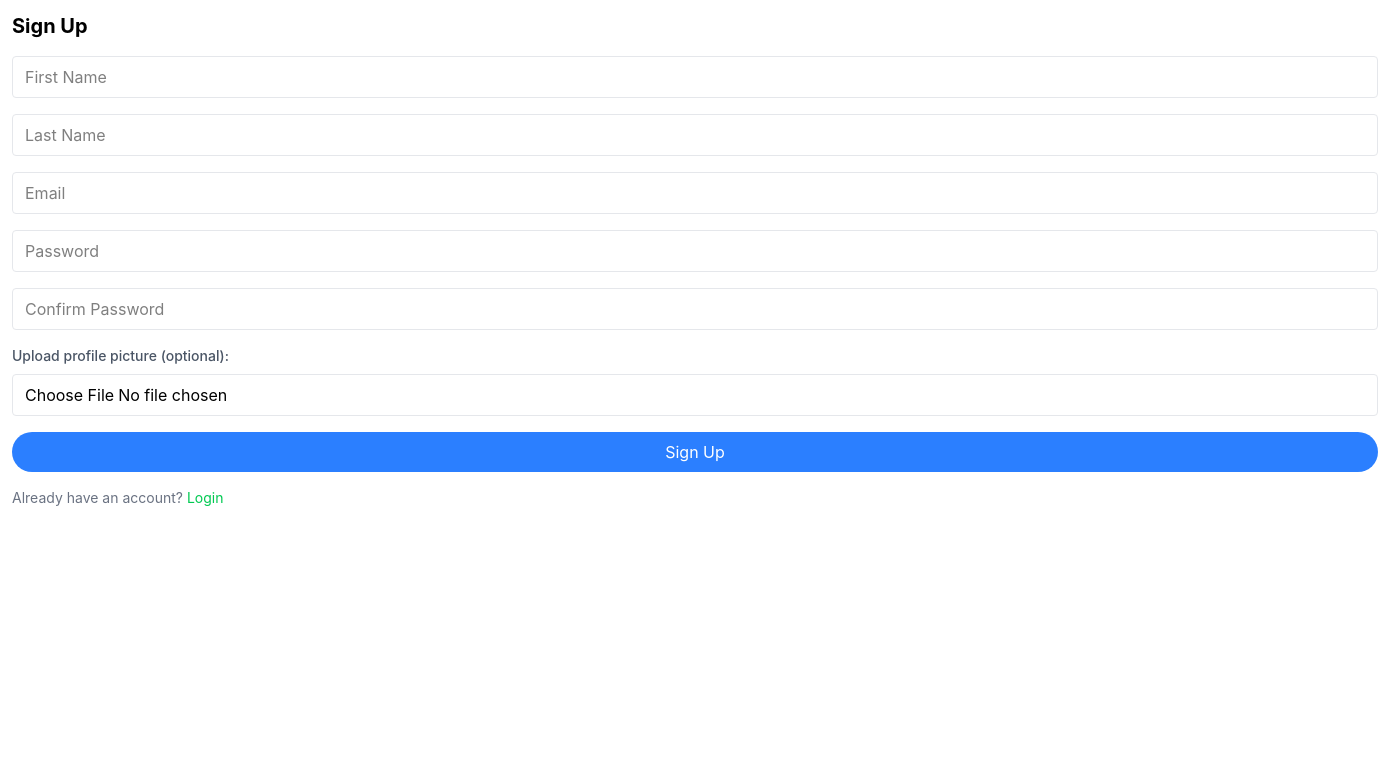
Test: SignupForm › shows an error and does not sign up when passwords do not match
The width and height of the screenshot is (1390, 780).
Step 1. Type "Jane" into the field with placeholder "First Name" → {"x": 695, "y": 77}, box [12, 56, 1378, 98]
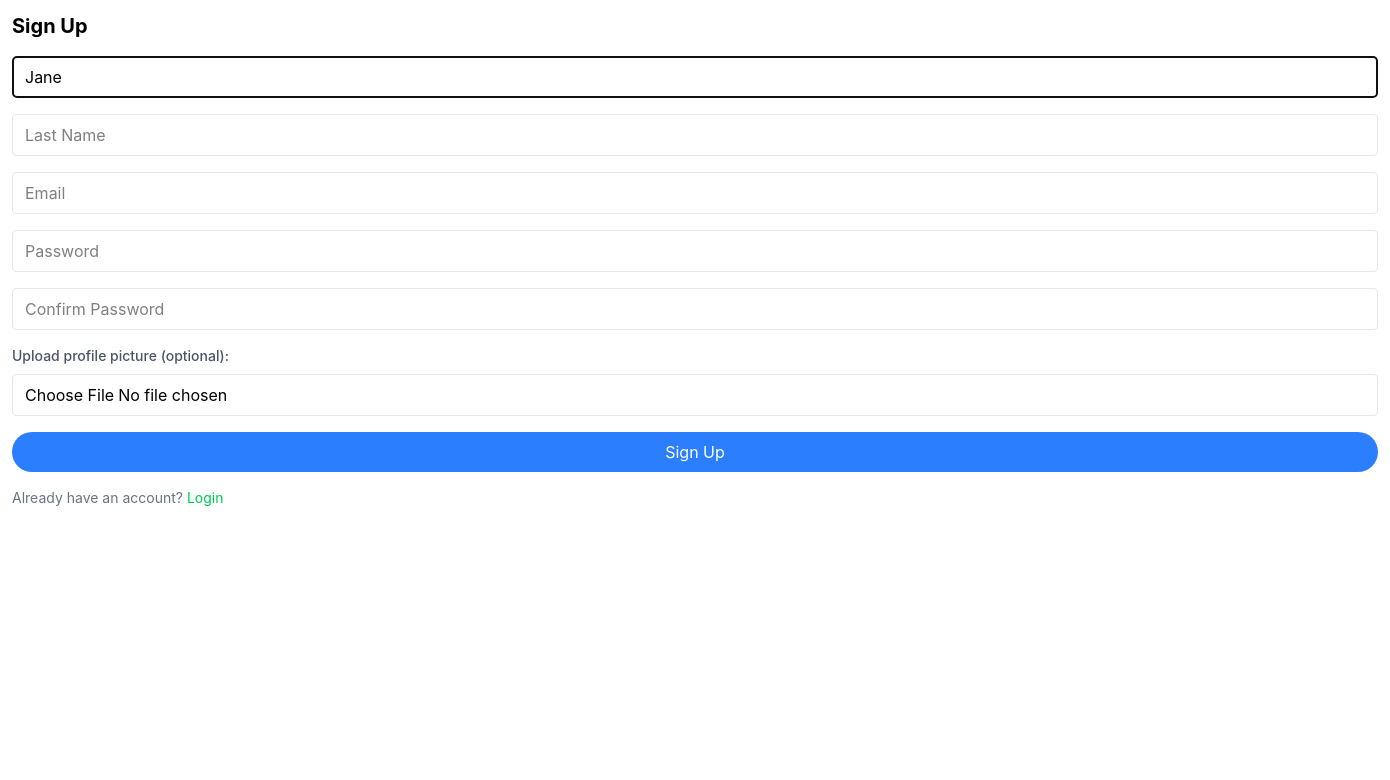
Step 2. Type "Doe" into the field with placeholder "Last Name" → {"x": 695, "y": 135}, box [12, 114, 1378, 156]
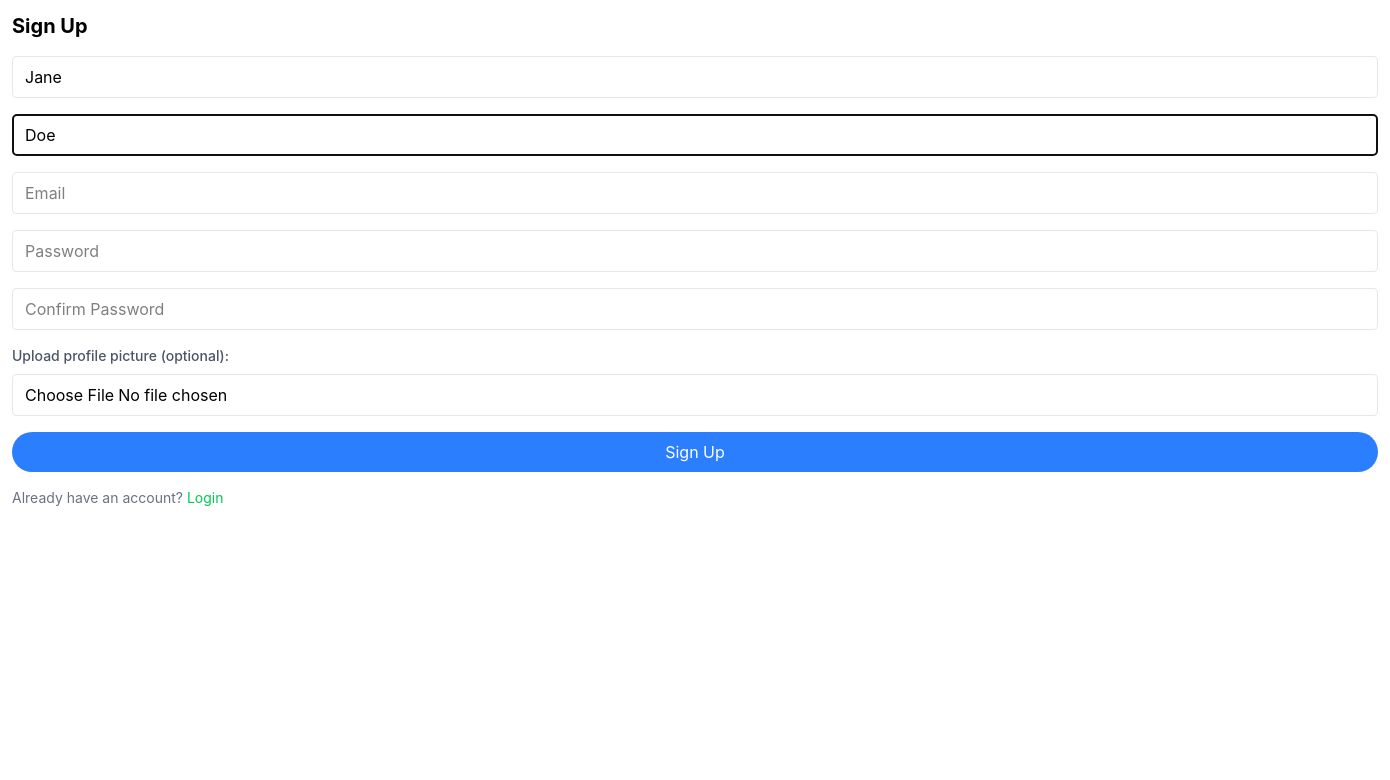
Step 3. Type "jane@example.com" into the field with placeholder "Email" → {"x": 695, "y": 193}, box [12, 172, 1378, 214]
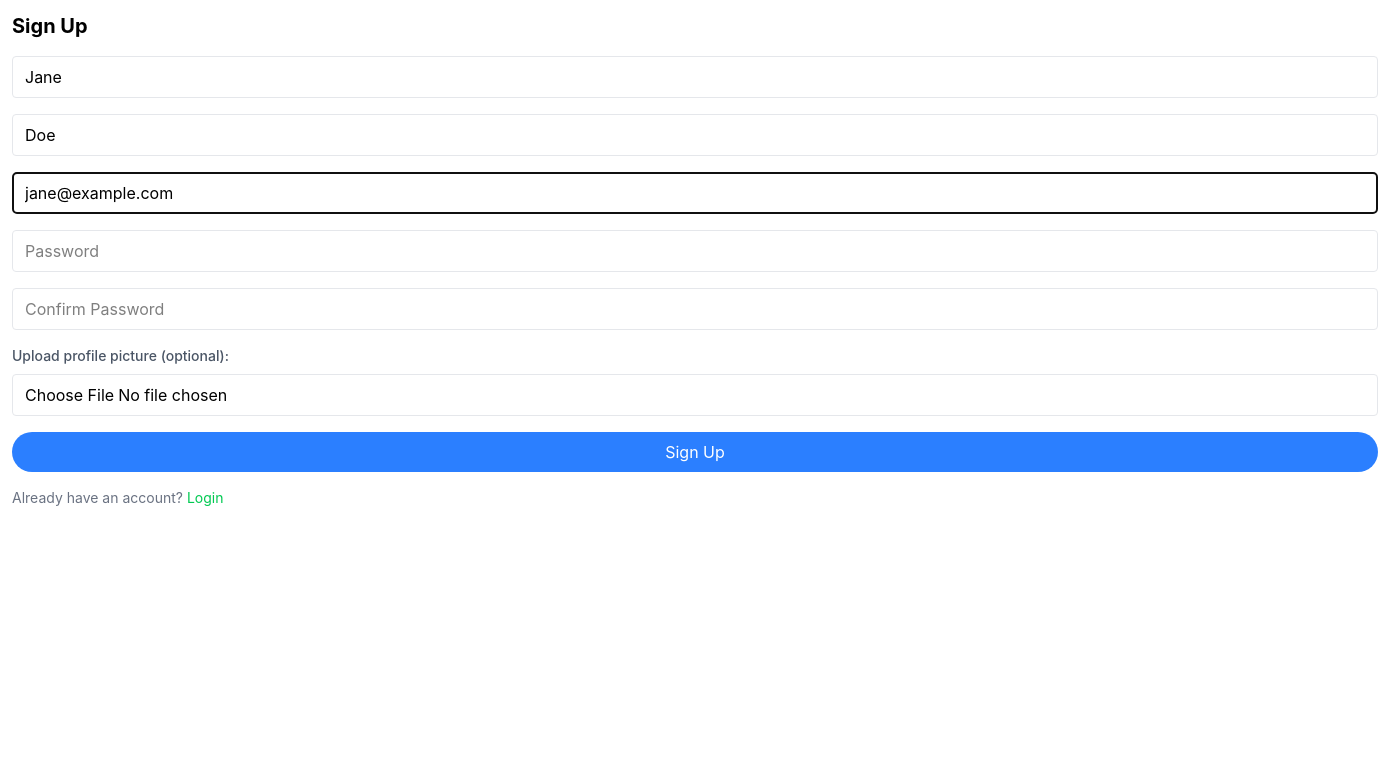
Step 4. Type "secret123" into the password field with placeholder "Password" → {"x": 695, "y": 251}, box [12, 230, 1378, 272]
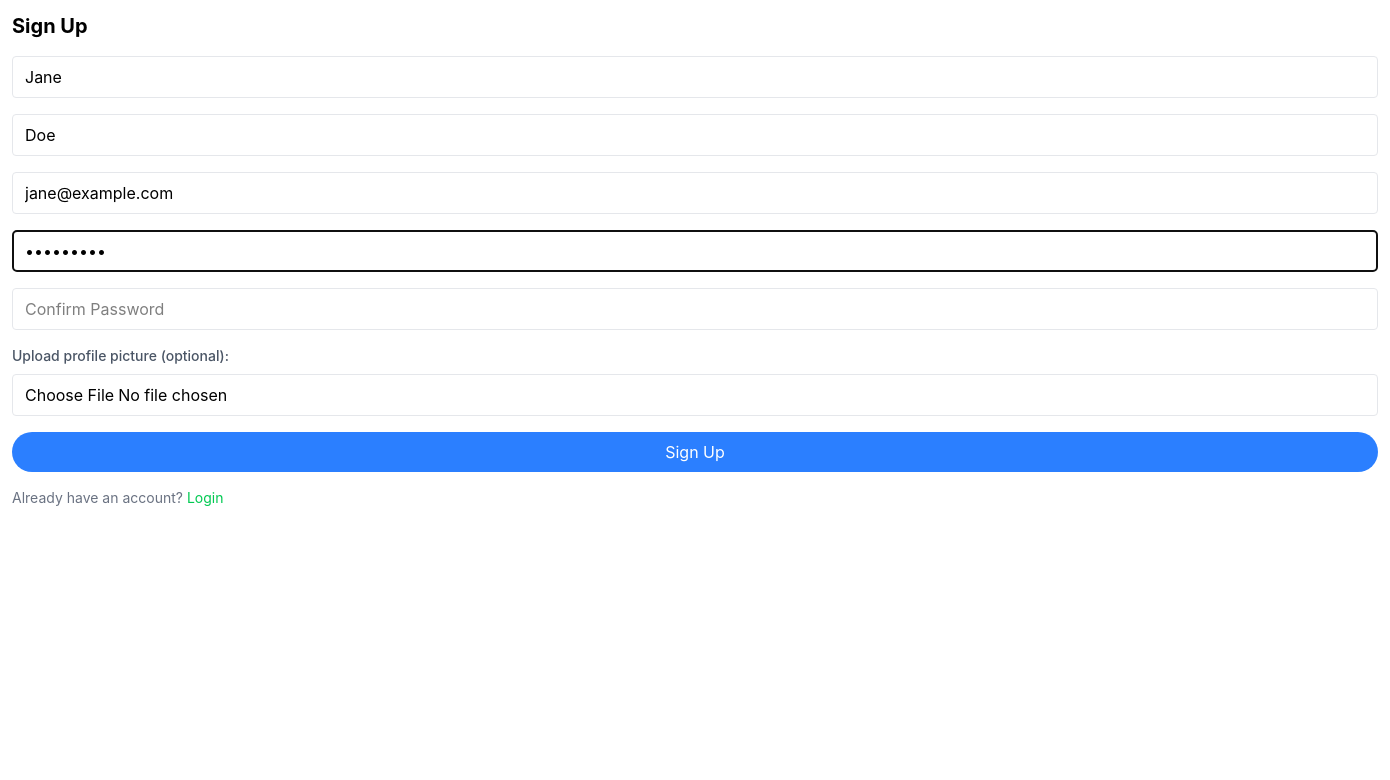
Step 5. Type "different" into the password field with placeholder "Confirm Password" → {"x": 695, "y": 309}, box [12, 288, 1378, 330]
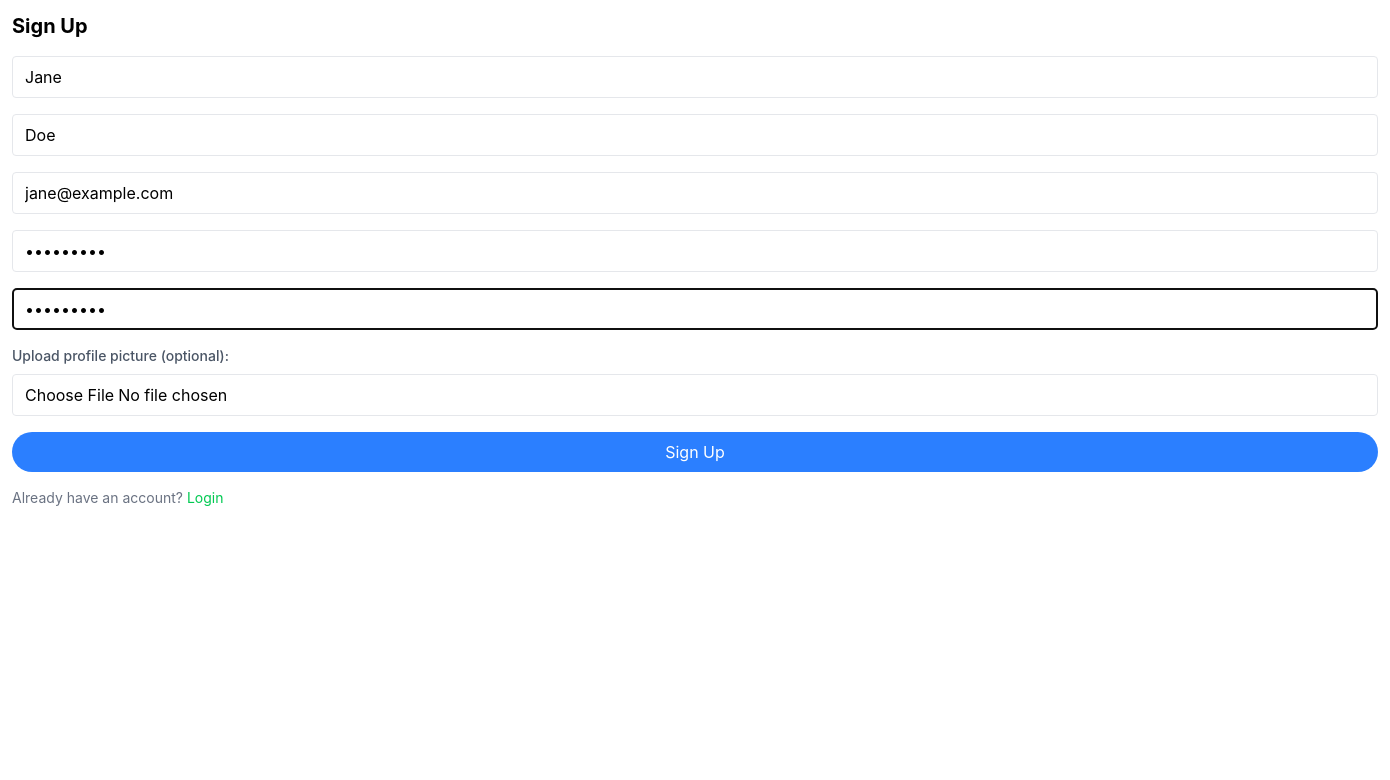
Step 6. Click the button "Sign Up" → {"x": 695, "y": 452}, box [12, 432, 1378, 472]
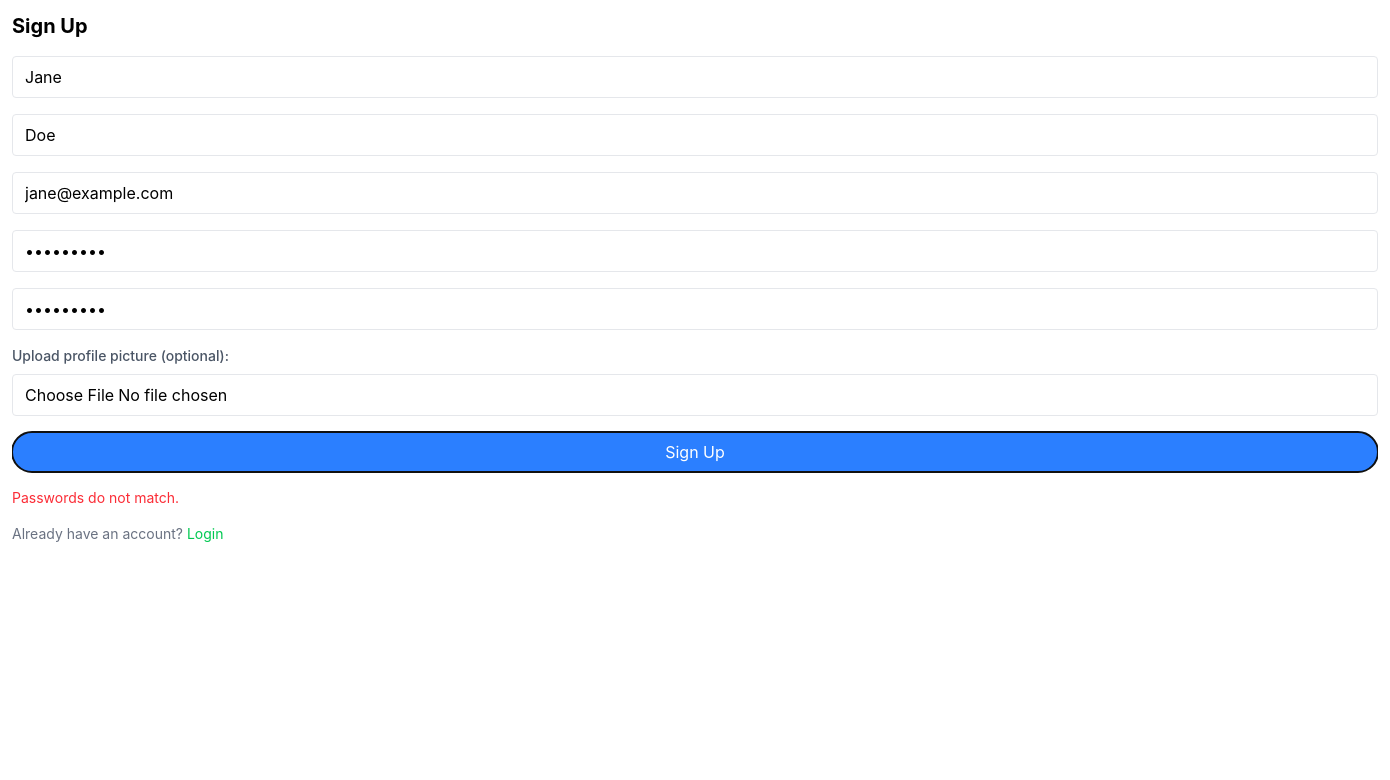
Now the text "Passwords do not match." is shown, box [12, 489, 179, 506]
